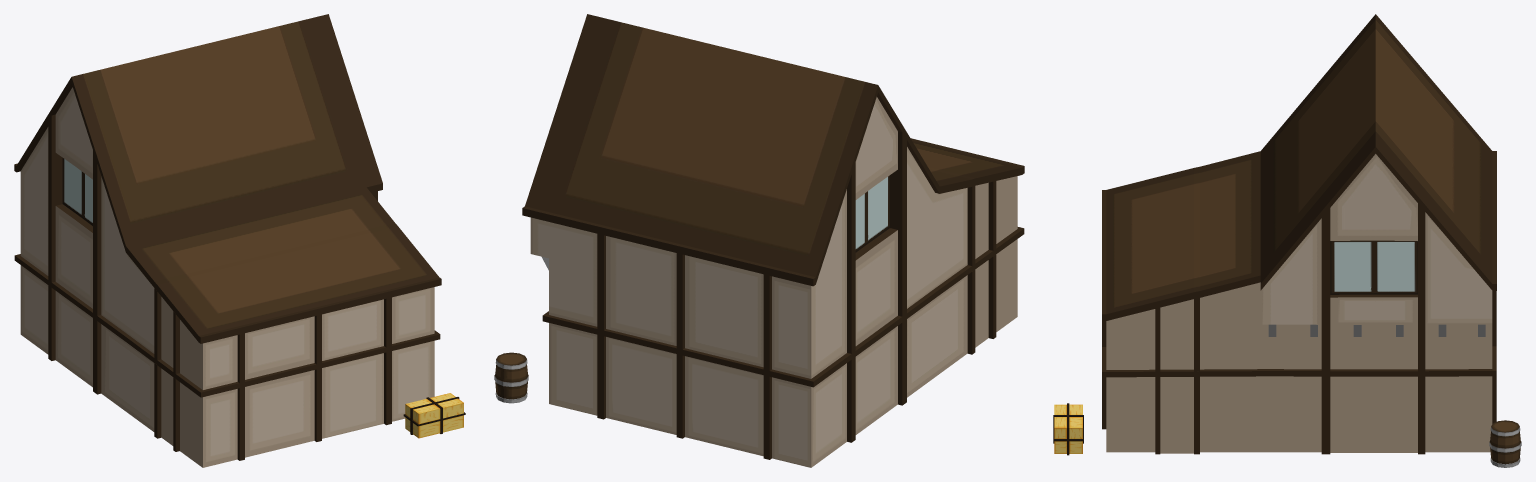
Rendered from Barn.fbx.
3 renders of one model, left to right at view 1: azimuth 30°, elevation 25°; view 2: azimuth 150°, elevation 25°; view 3: azimuth 270°, elevation 25°, orthographic. The views are drawn at different scales.
Parts seen in each view (by area): view 1: pCube1, pasted__pCube3; view 2: pCube1, pCylinder1; view 3: pCube1, pasted__pCube3, pCylinder1.
Boxes of the visible parts, <box> form: pCube1: <box>14,14,441,467</box>; pasted__pCube3: <box>403,393,465,438</box>; pCube1: <box>522,14,1024,467</box>; pCylinder1: <box>494,352,528,403</box>; pCube1: <box>1102,14,1496,454</box>; pasted__pCube3: <box>1053,403,1083,455</box>; pCylinder1: <box>1489,420,1521,467</box>.
Bounding box in the file's own units: 15.25 × 15.8 × 21.17.
